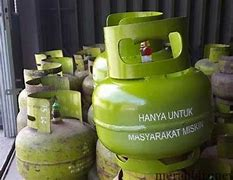gas_ijo: (94, 12, 213, 173), (16, 92, 94, 180), (19, 78, 72, 129), (24, 52, 76, 94), (195, 41, 229, 77), (211, 56, 233, 100)
